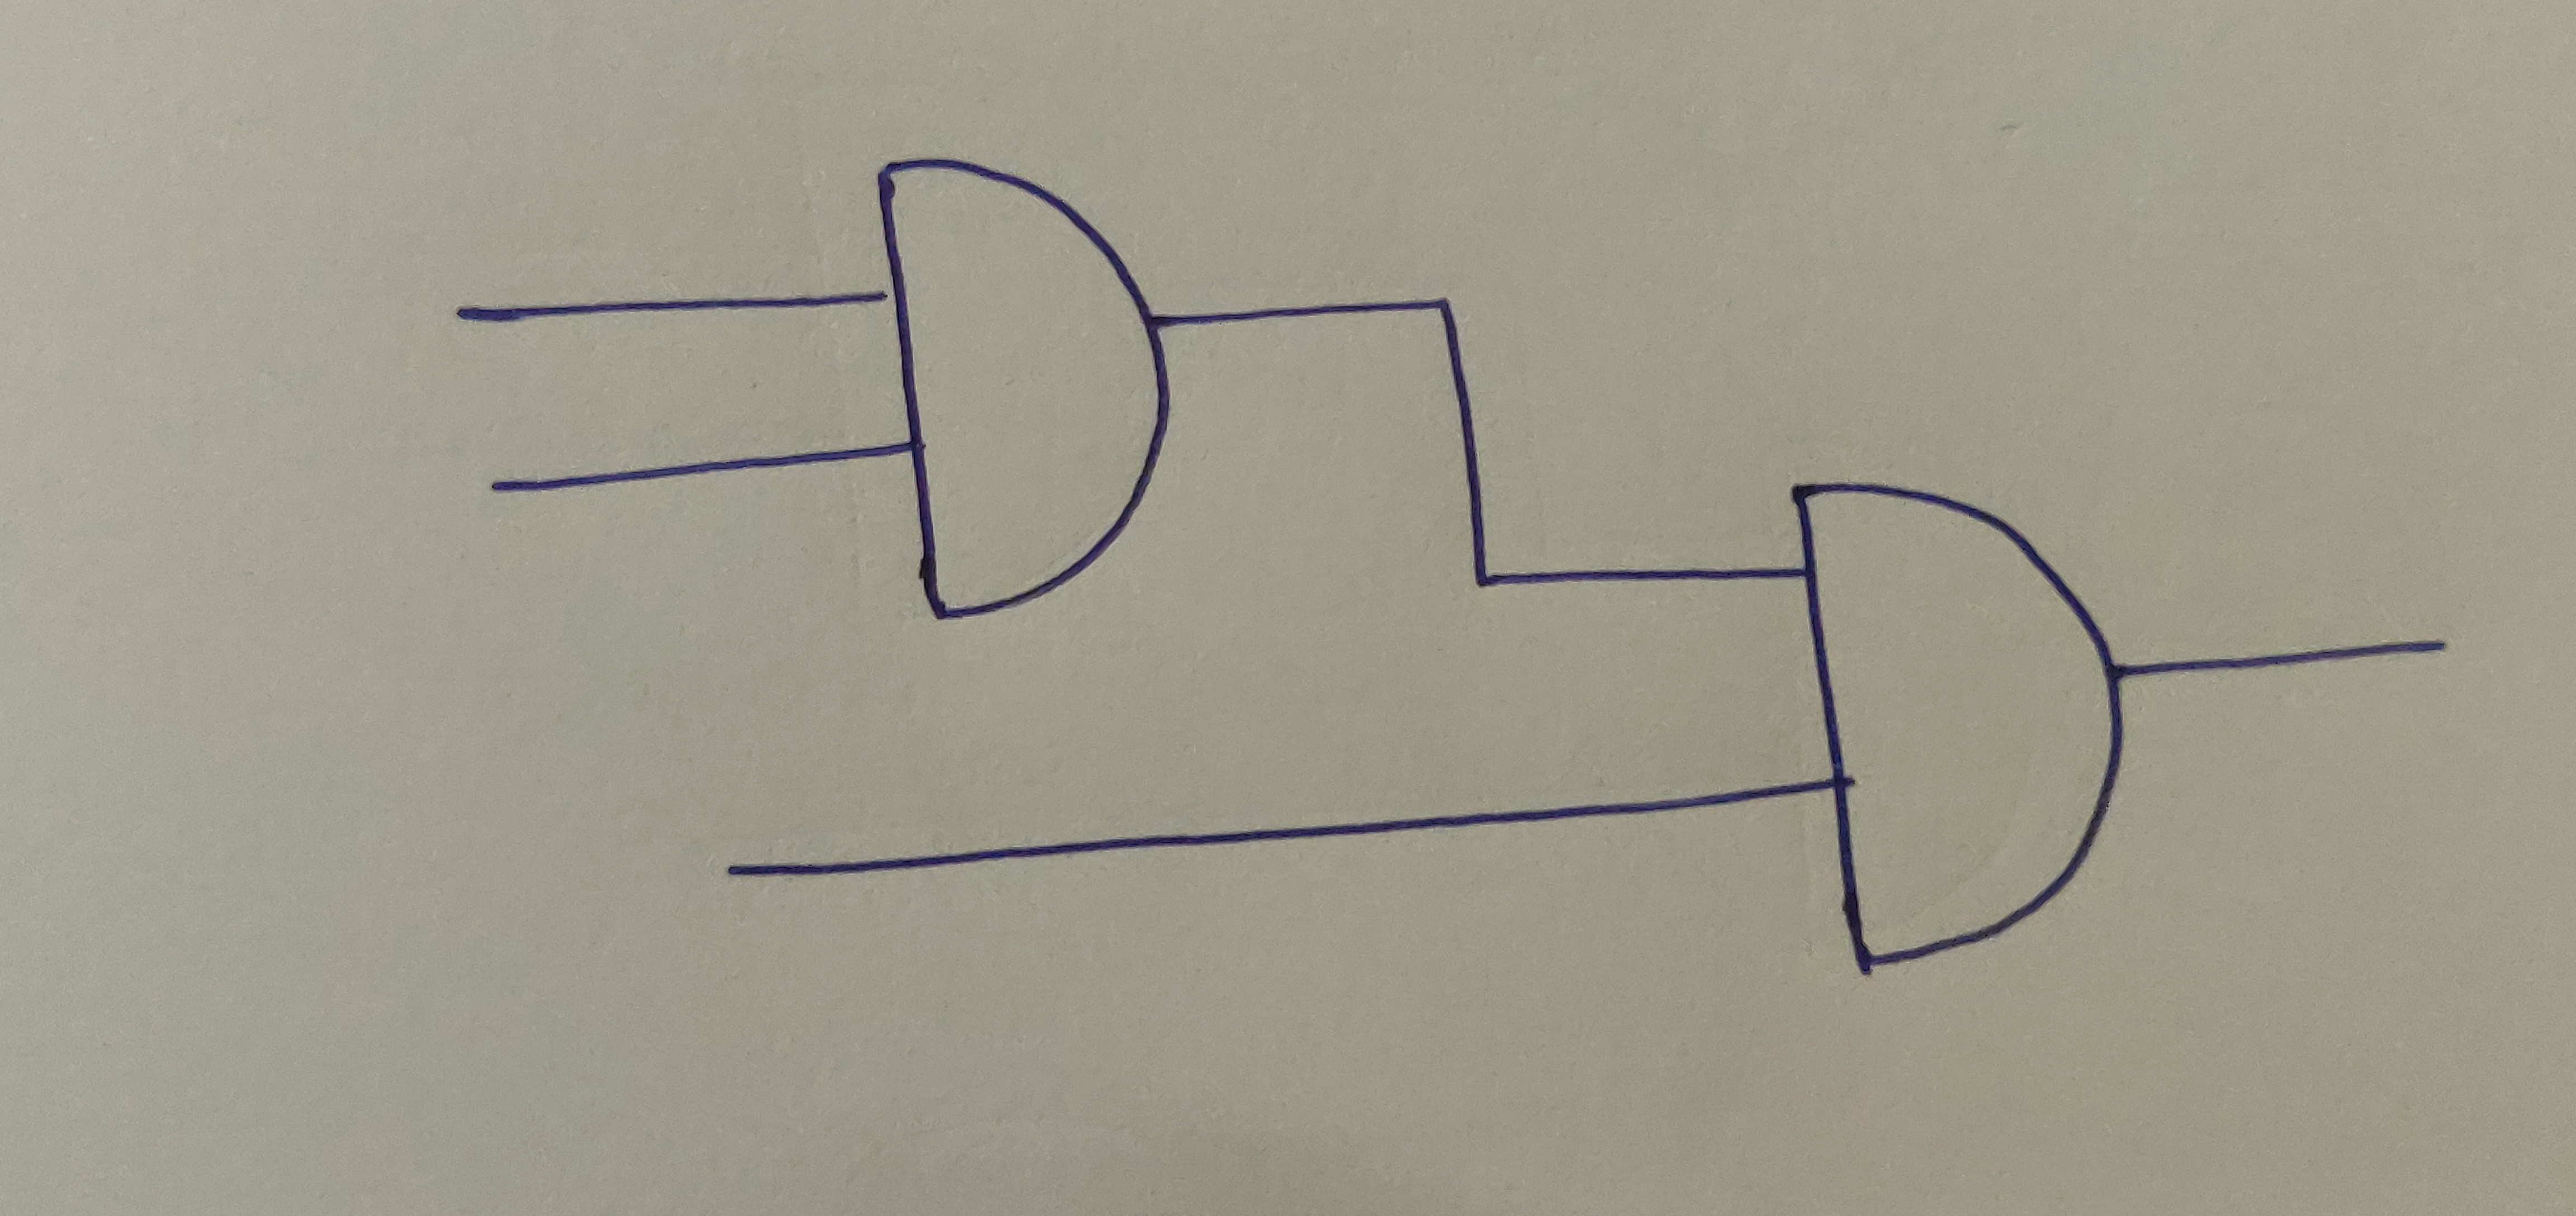and: (1796, 477, 2123, 963), (864, 153, 1178, 623)
